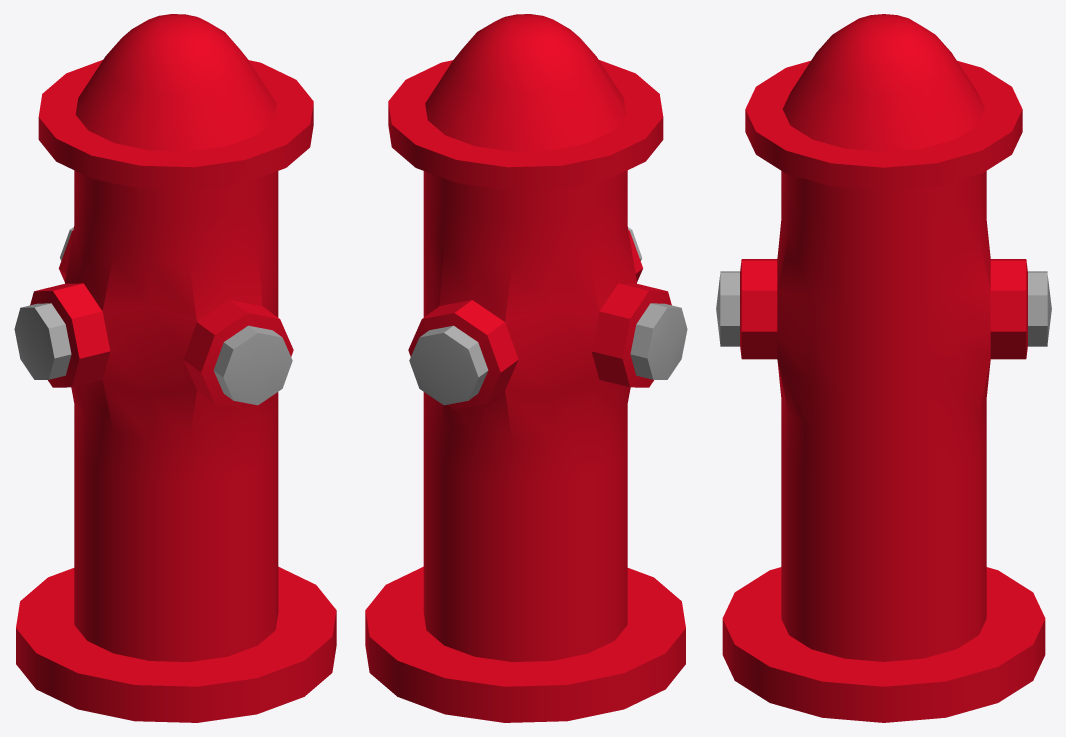
Rendered from WaterHydrant01.fbx.
3 renders of one model, left to right at view 1: azimuth 30°, elevation 25°; view 2: azimuth 150°, elevation 25°; view 3: azimuth 270°, elevation 25°, orthographic.
Parts seen in each view (by area): view 1: FireHydrant; view 2: FireHydrant; view 3: FireHydrant.
Part boxes in pixels (<box>): FireHydrant: <box>14,14,336,722</box>; FireHydrant: <box>365,14,687,722</box>; FireHydrant: <box>716,14,1051,722</box>.
Bounding box in the file's own units: 25.33 × 53.58 × 25.83.
